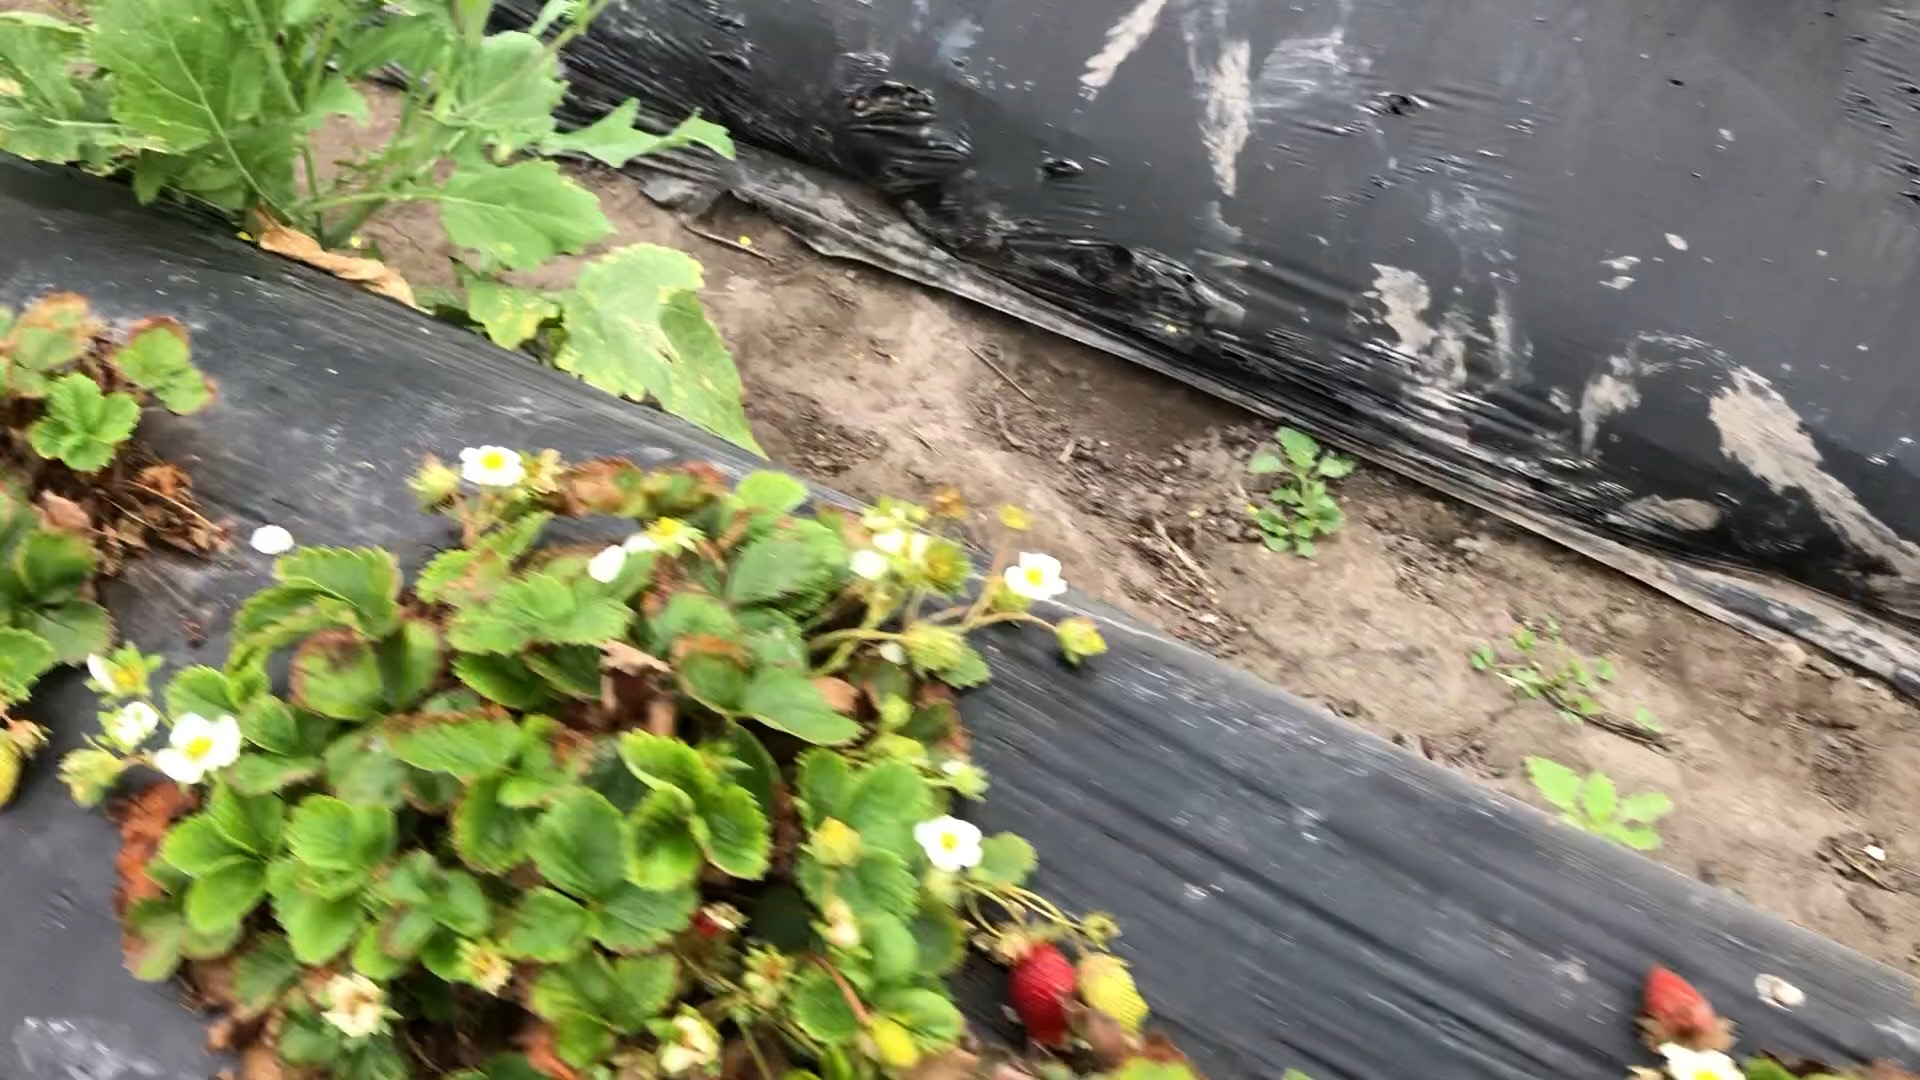ripe_strawberry: (1004, 938, 1071, 1048), (1640, 961, 1717, 1044)
unripe_strawberry: (1071, 945, 1153, 1042), (862, 1013, 924, 1073), (1051, 611, 1110, 665), (1, 725, 32, 814)
